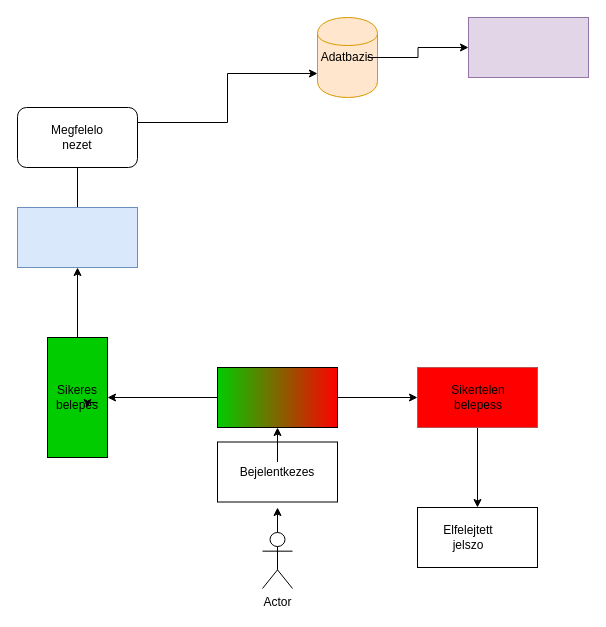
Some shapes in this 606 by 627 pixel diagram are drawn without their labels. Each missing label, with the centre of its shape:
"Ellenorzes" goes at [277,397].
"Fonok/Dolgozo" goes at [77,237].
"Rendeles folyamata" goes at [528,47].
